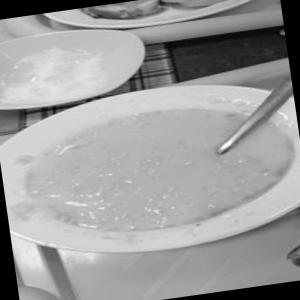porridge: (5, 75, 300, 275)
